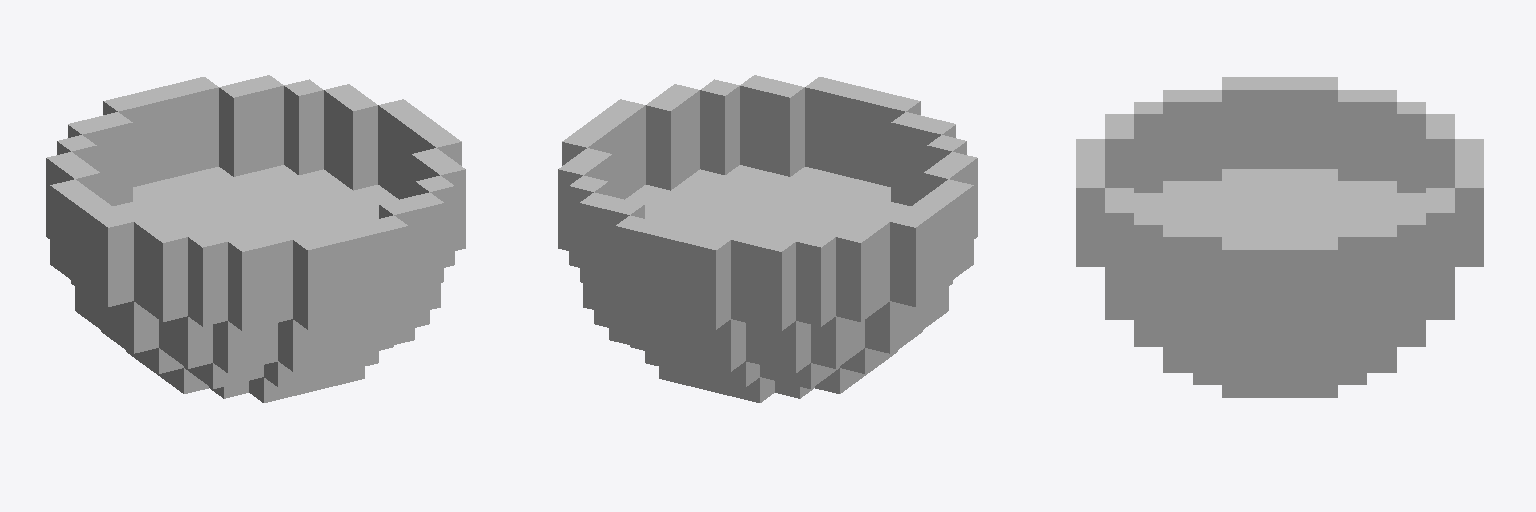
Rendered from cooking_mixing_glass_bowl_fill_half.obj.
The picture shows the model from 3 angles: view 1: azimuth 30°, elevation 25°; view 2: azimuth 150°, elevation 25°; view 3: azimuth 270°, elevation 25°; orthographic projection.
Parts seen in each view (by area): view 1: node_0_0_0.020, node_0_0_0.021; view 2: node_0_0_0.020, node_0_0_0.021; view 3: node_0_0_0.020, node_0_0_0.021.
Part boxes in pixels (bbox=[...]): node_0_0_0.020: bbox=[46, 75, 465, 402]; node_0_0_0.021: bbox=[128, 176, 378, 240]; node_0_0_0.020: bbox=[558, 75, 977, 402]; node_0_0_0.021: bbox=[645, 176, 895, 240]; node_0_0_0.020: bbox=[1076, 77, 1483, 397]; node_0_0_0.021: bbox=[1163, 181, 1396, 236].
Size of the model in its own units: 0.875 by 0.4375 by 0.875.